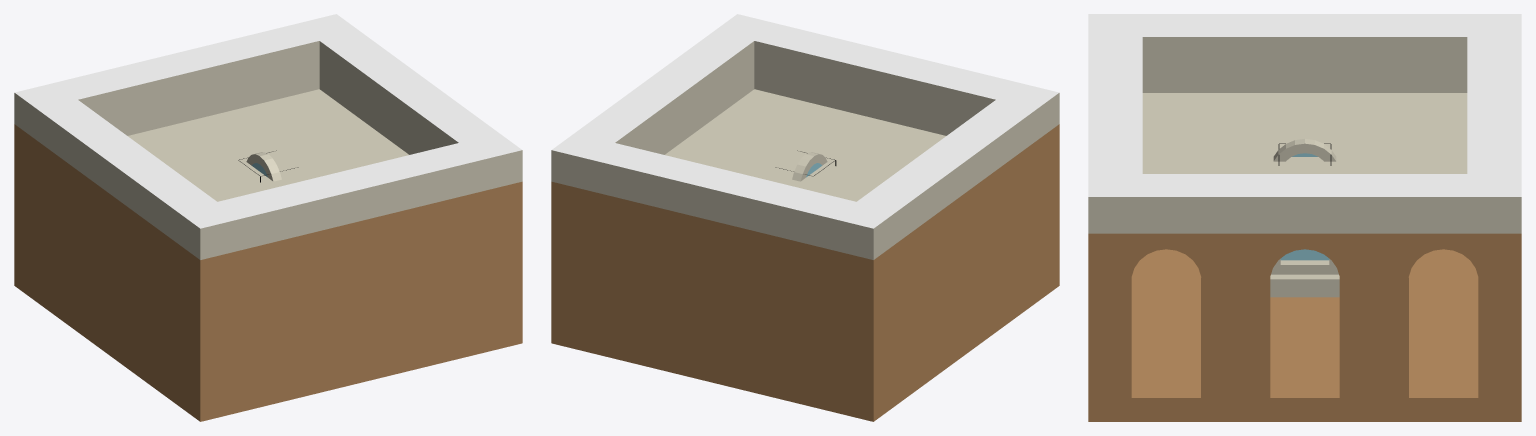
File: Building 46.FBX
The picture shows the model from 3 angles, left to right: view 1: azimuth 30°, elevation 25°; view 2: azimuth 150°, elevation 25°; view 3: azimuth 270°, elevation 25°; orthographic projection. The views are drawn at different scales.
Parts seen in each view (by area): view 1: Group12; view 2: Group12; view 3: Group12, Group13, Group14, Group15.
Part boxes in pixels (x1=…): Group12: x1=14, y1=14, x2=522, y2=421; Group12: x1=551, y1=14, x2=1059, y2=421; Group12: x1=1088, y1=14, x2=1521, y2=421; Group13: x1=1270, y1=139, x2=1339, y2=297; Group14: x1=1270, y1=144, x2=1339, y2=297; Group15: x1=1270, y1=139, x2=1339, y2=297.
Size of the model in its own units: 29.53 by 16.93 by 29.53.
